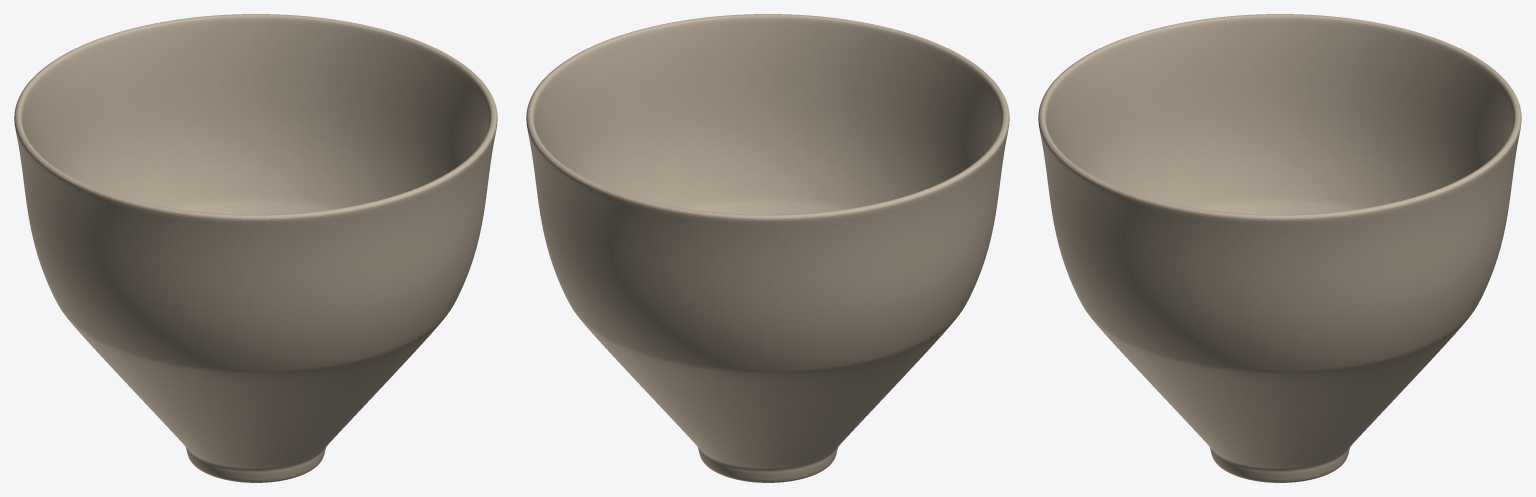
Rendered from 3dcodebench_Bowl_seed0.glb.
3 renders of one model, left to right at view 1: azimuth 30°, elevation 25°; view 2: azimuth 150°, elevation 25°; view 3: azimuth 270°, elevation 25°, orthographic.
Visible parts, largest first — view 1: object; view 2: object; view 3: object.
Part boxes in pixels (x1,y1,x2,y2): object: [14, 14, 497, 482]; object: [526, 14, 1009, 482]; object: [1038, 14, 1521, 482].
Size of the model in its own units: 0.2552 by 0.1996 by 0.2552.
